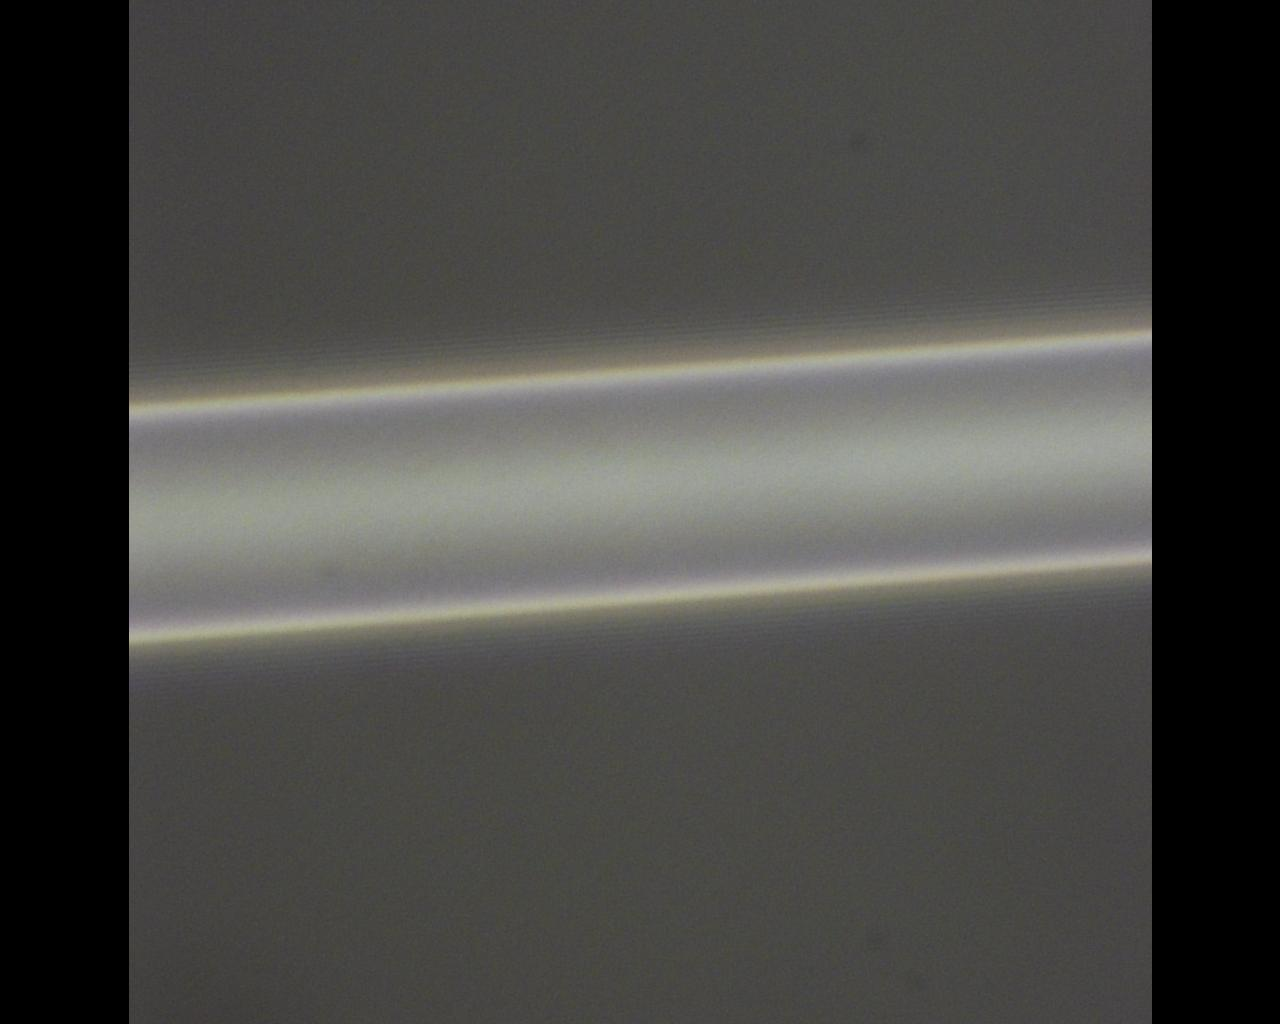fiber: (128, 327, 1152, 648)
